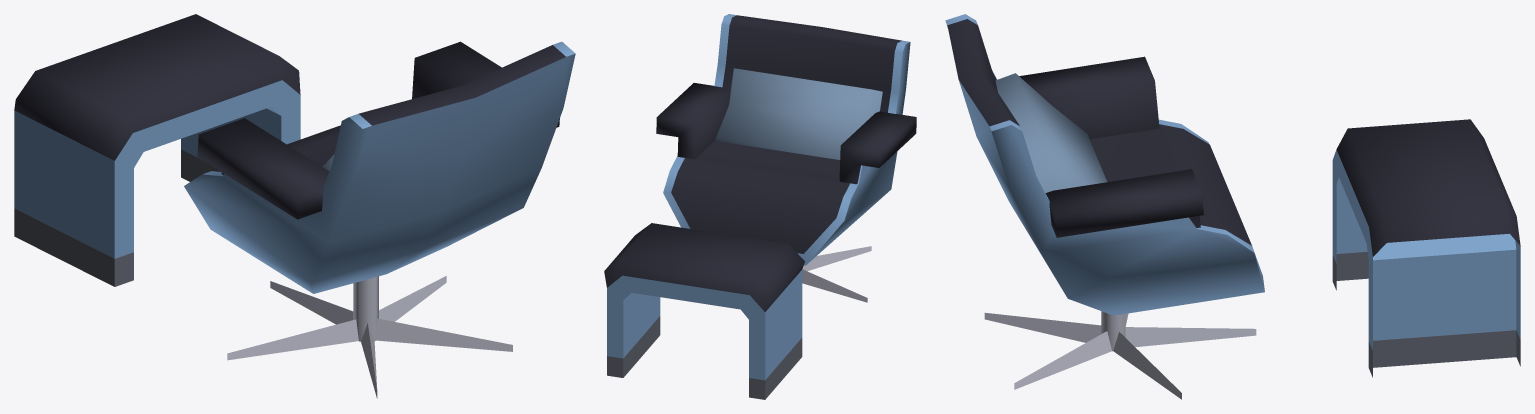
File: interior_E_005.fbx
3 views of the same model, side by side, from view 1: azimuth 30°, elevation 25°; view 2: azimuth 150°, elevation 25°; view 3: azimuth 270°, elevation 25° (orthographic). The views are drawn at different scales.
Parts seen in each view (by area): view 1: interior_E_005; view 2: interior_E_005; view 3: interior_E_005.
Boxes of the visible parts, box(x1,y1,x2,y2) form: interior_E_005: box(14, 14, 575, 398); interior_E_005: box(604, 14, 916, 399); interior_E_005: box(945, 14, 1520, 399).
Bounding box in the file's own units: 107 × 92.39 × 168.
